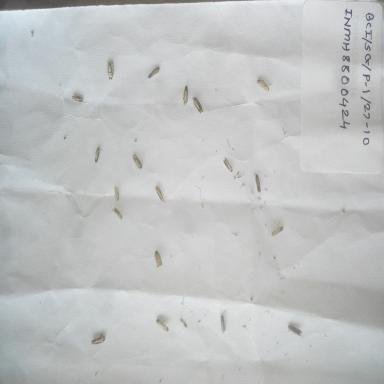pbw: (127, 150, 147, 172), (86, 331, 110, 349), (214, 311, 228, 338), (152, 181, 168, 204), (286, 320, 304, 340), (153, 315, 171, 335), (103, 57, 116, 84), (178, 83, 192, 108), (254, 75, 271, 95), (150, 248, 164, 272), (91, 143, 105, 167), (220, 156, 234, 180), (107, 182, 122, 204), (251, 170, 263, 197), (192, 94, 206, 116), (146, 63, 162, 82), (68, 93, 84, 109), (271, 225, 284, 238)
